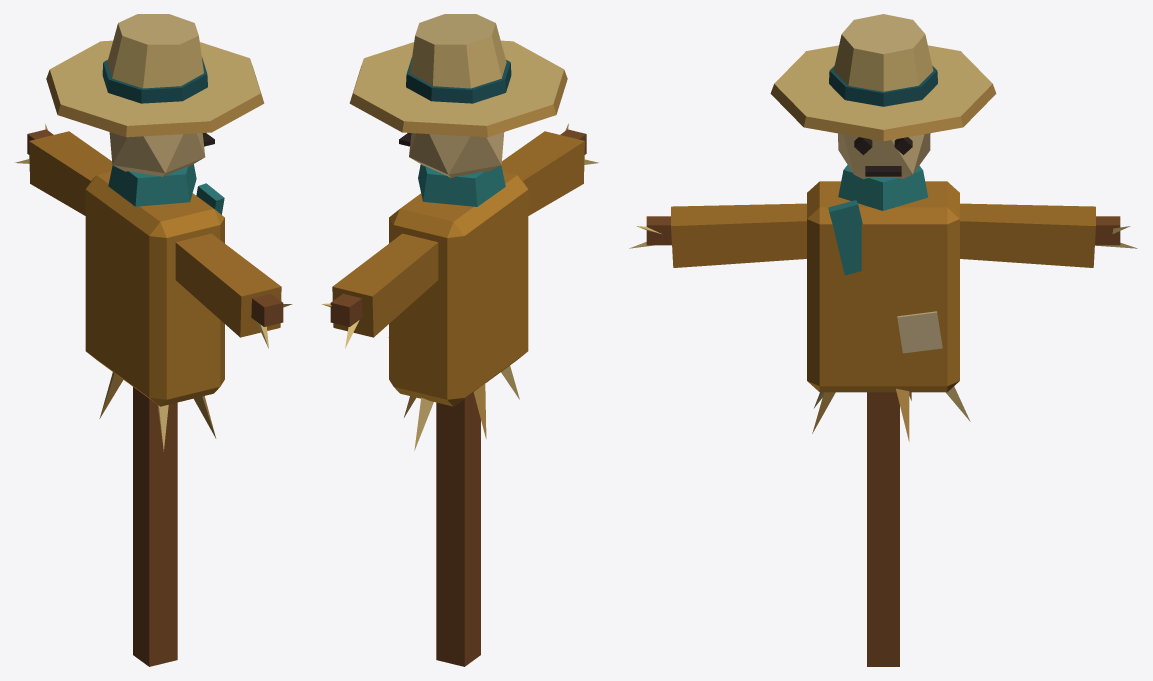
The model's file is scarecrow.glb.
3 renders of one model, left to right at view 1: azimuth 30°, elevation 25°; view 2: azimuth 150°, elevation 25°; view 3: azimuth 270°, elevation 25°, orthographic.
Parts seen in each view (by area): view 1: scarecrow; view 2: scarecrow; view 3: scarecrow.
Part boxes in pixels (left/top/right/bottom): scarecrow: left=15, top=14, right=292, bottom=666; scarecrow: left=321, top=14, right=598, bottom=666; scarecrow: left=629, top=14, right=1137, bottom=666.
Bounding box in the file's own units: 0.62 × 1.91 × 1.4.
